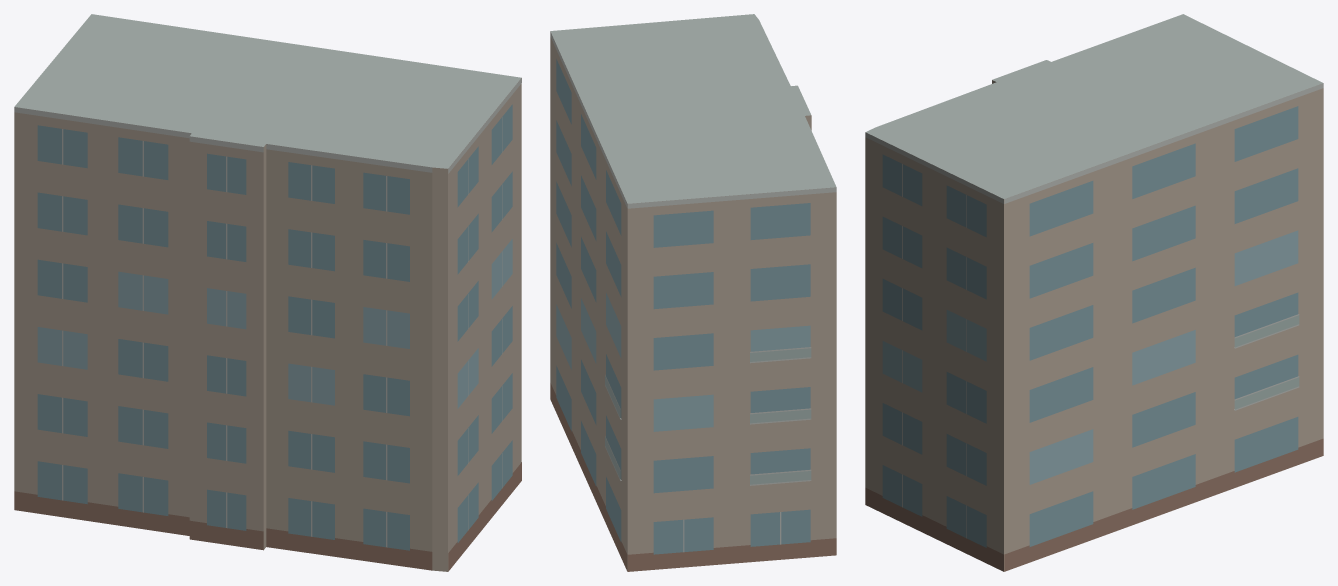
The model's file is survey-upis-32627150.glb.
3 views of the same model, side by side, from view 1: azimuth 30°, elevation 25°; view 2: azimuth 150°, elevation 25°; view 3: azimuth 270°, elevation 25° (orthographic). The views are drawn at different scales.
Parts seen in each view (by area): view 1: survey-upis-32627150.tmp; view 2: survey-upis-32627150.tmp; view 3: survey-upis-32627150.tmp.
Boxes of the visible parts, left/top/right/bottom form: survey-upis-32627150.tmp: left=14, top=14, right=521, bottom=571; survey-upis-32627150.tmp: left=550, top=14, right=836, bottom=571; survey-upis-32627150.tmp: left=865, top=14, right=1323, bottom=571.
Size of the model in its own units: 19.51 by 18.3 by 20.4.
